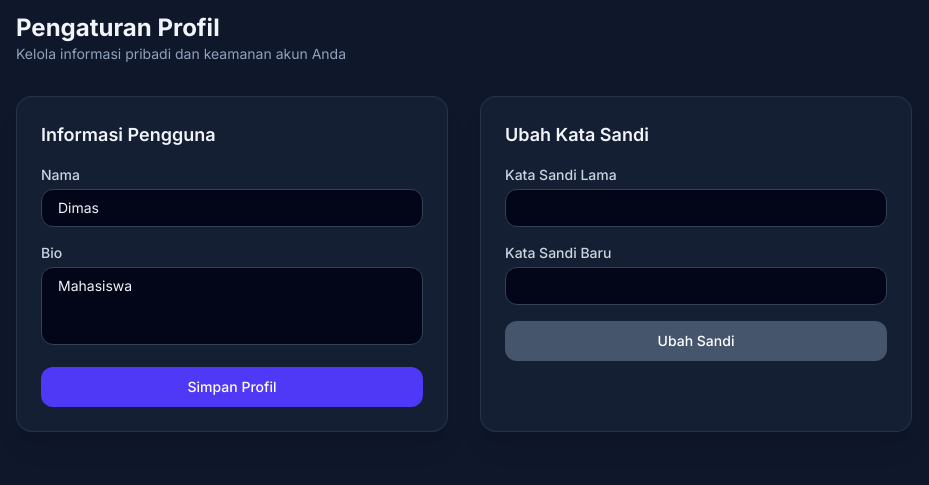
Scenario: ProfilePage › menampilkan pesan error saat gagal memperbarui profil
Click the button "Simpan Profil" at (232, 387), box [41,367,423,407]
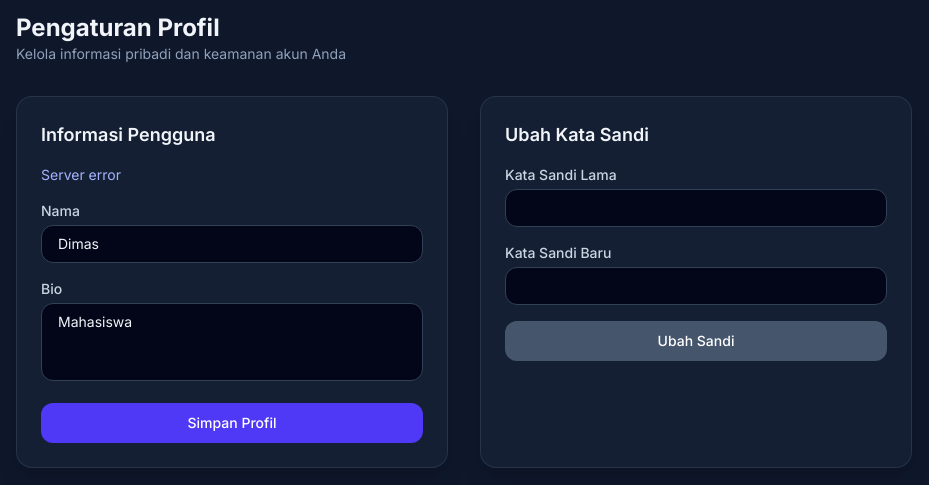
Now the text "Server error" is shown, box [41,166,121,183]
